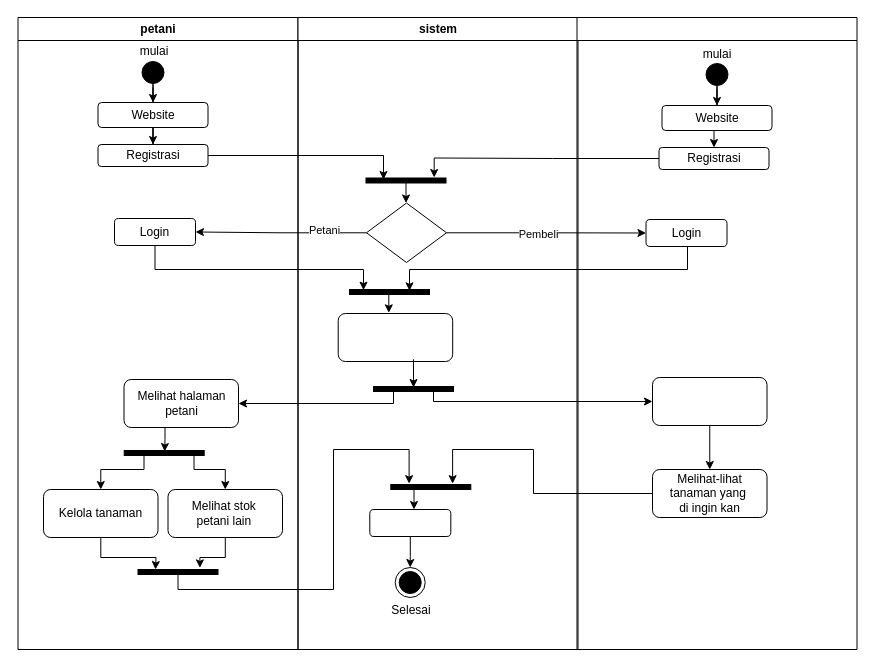
This 874x667 diagram has some shape labels left out. The box of each missing label's shape, as (x1, y1, x2, y2) in pixels:
customer: (576, 16, 857, 650)
Logout: (369, 508, 451, 536)
Melihat halaman Pembeli: (652, 376, 767, 426)
Menampilkan Halaman dhasboard: (337, 312, 453, 362)
Pilih Actor: (366, 202, 446, 262)
